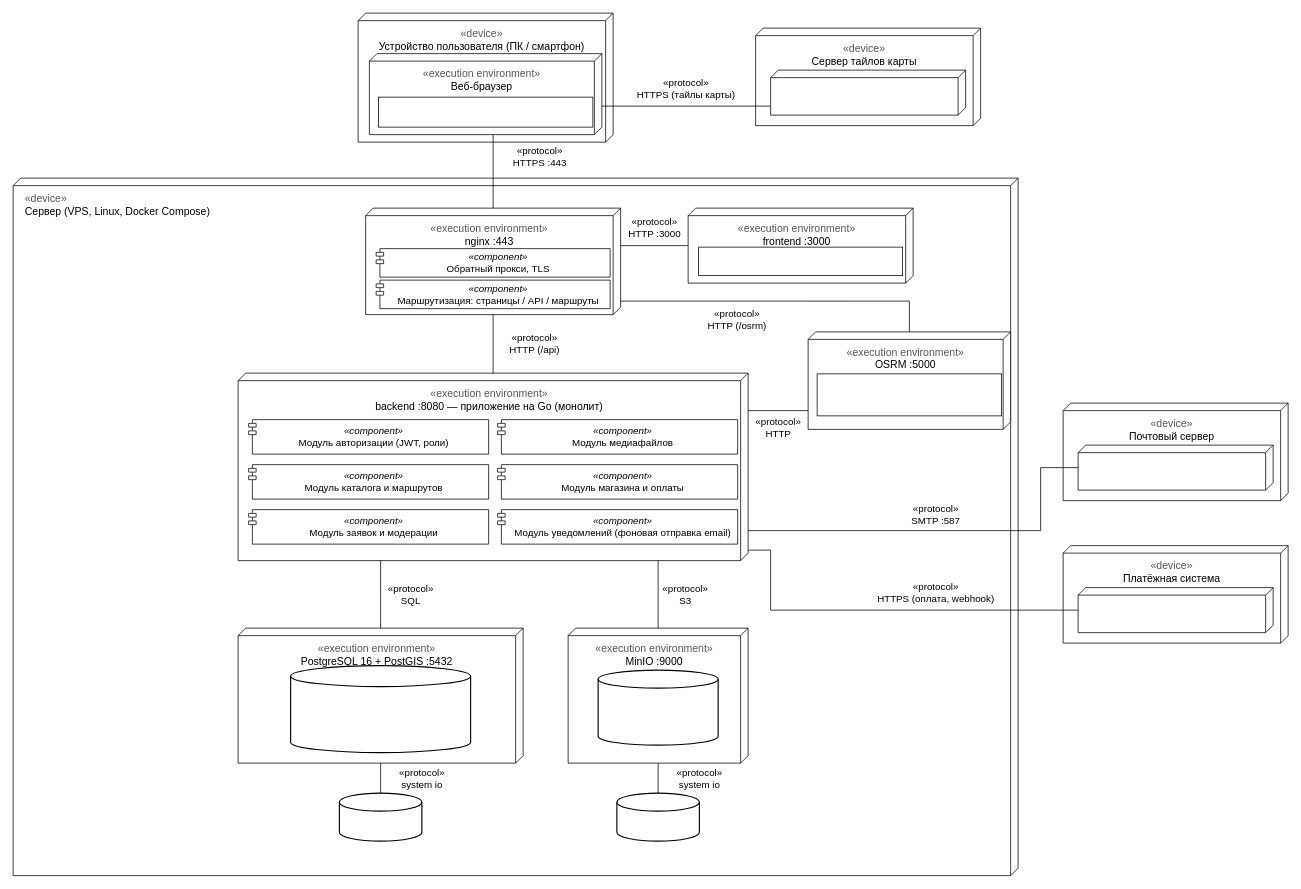
Some shapes in this 1301 by 889 pixel diagram are drawn without their labels. Here are the shapes that lost their labels. From the top down, the centre of each, then its label:
[485,111]: «artifact» Клиентская часть Next.js (карта Leaflet)
[868,92]: «execution environment» OpenStreetMap
[800,261]: «artifact» Next.js-приложение (SSR)
[909,394]: «artifact» Граф пешеходных маршрутов (данные OSM)
[1175,467]: «execution environment» SMTP-сервер
[1175,610]: «execution environment» ЮKassa API
[380,709]: БД
[657,707]: Бакеты: фото, 3D, аудио, товары
[380,816]: том pg-data
[658,816]: том minio-data
